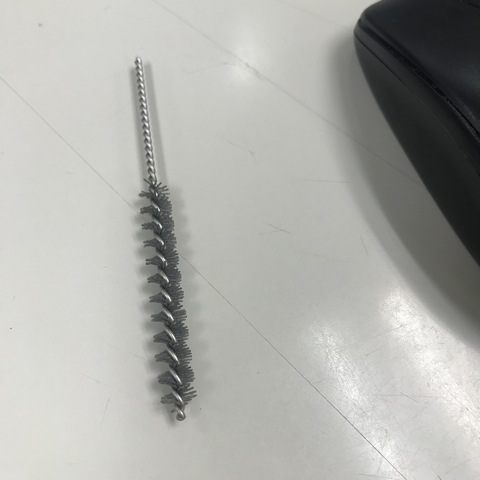Twist Brush-A: (125, 52, 203, 426)
